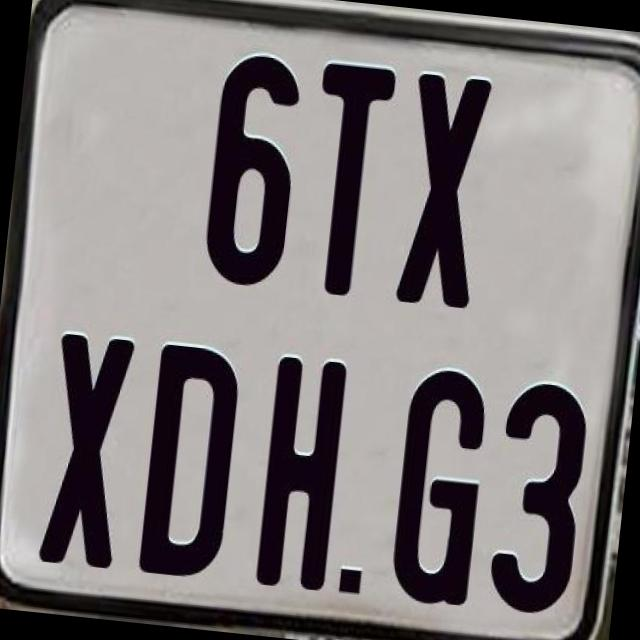3: (484, 380, 593, 626)
6: (198, 51, 304, 292)
D: (136, 342, 248, 585)
G: (387, 363, 496, 610)
H: (254, 352, 348, 592)
T: (300, 59, 396, 300)
X: (392, 73, 494, 314), (35, 333, 138, 569)
